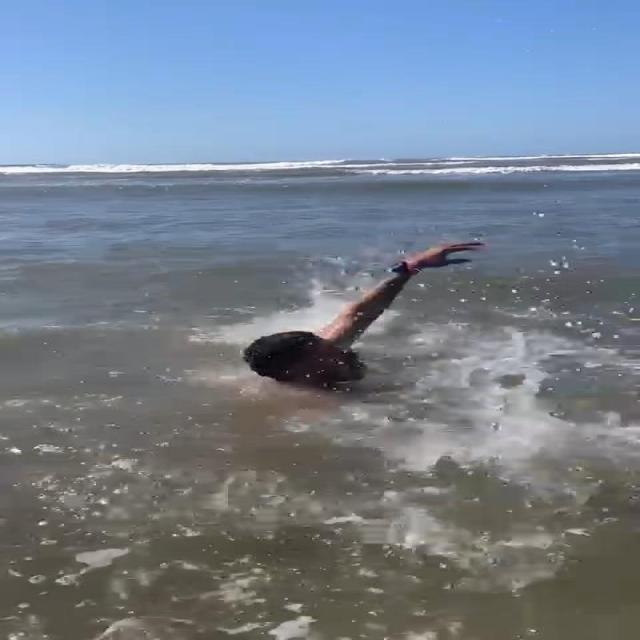Out of Water: (232, 238, 483, 389)
